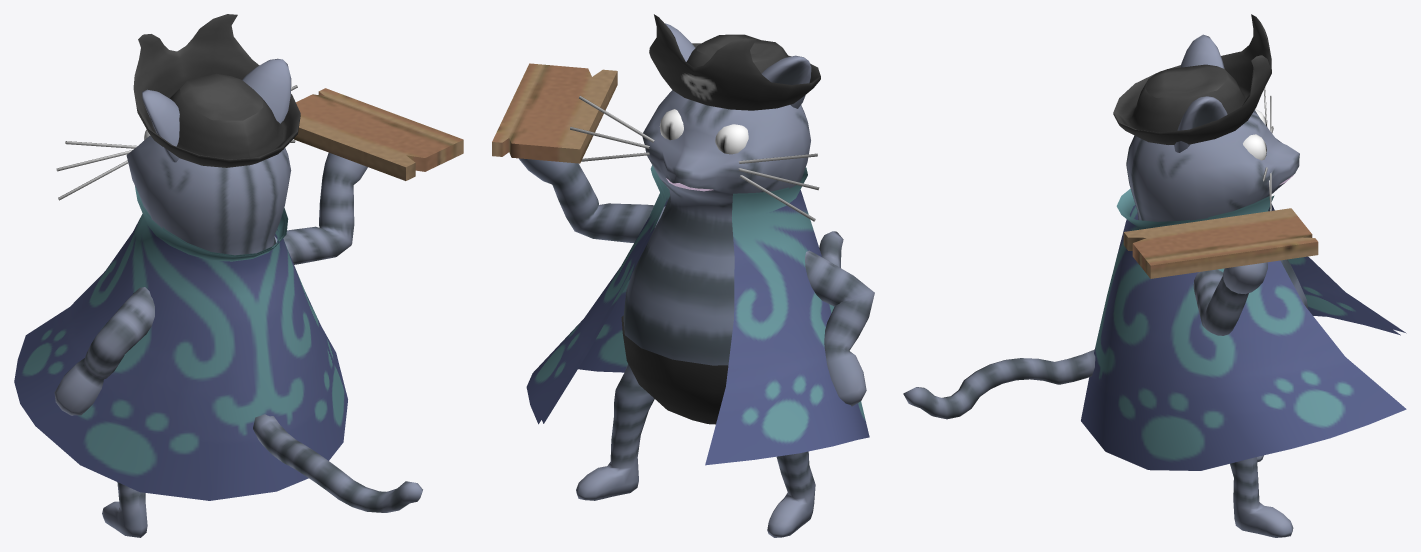
File: neko_idle_c_07.fbx
3 views of the same model, side by side, from view 1: azimuth 30°, elevation 25°; view 2: azimuth 150°, elevation 25°; view 3: azimuth 270°, elevation 25° (orthographic). The views are drawn at different scales.
Visible parts, largest first — view 1: I_c_07; view 2: I_c_07; view 3: I_c_07.
Boxes of the visible parts, x1=… form: I_c_07: x1=14, y1=14, x2=463, y2=537; I_c_07: x1=492, y1=14, x2=874, y2=537; I_c_07: x1=903, y1=14, x2=1406, y2=537.
Bounding box in the file's own units: 1.58 × 1.94 × 1.93.
Materials: 1 (1 with a texture image).
